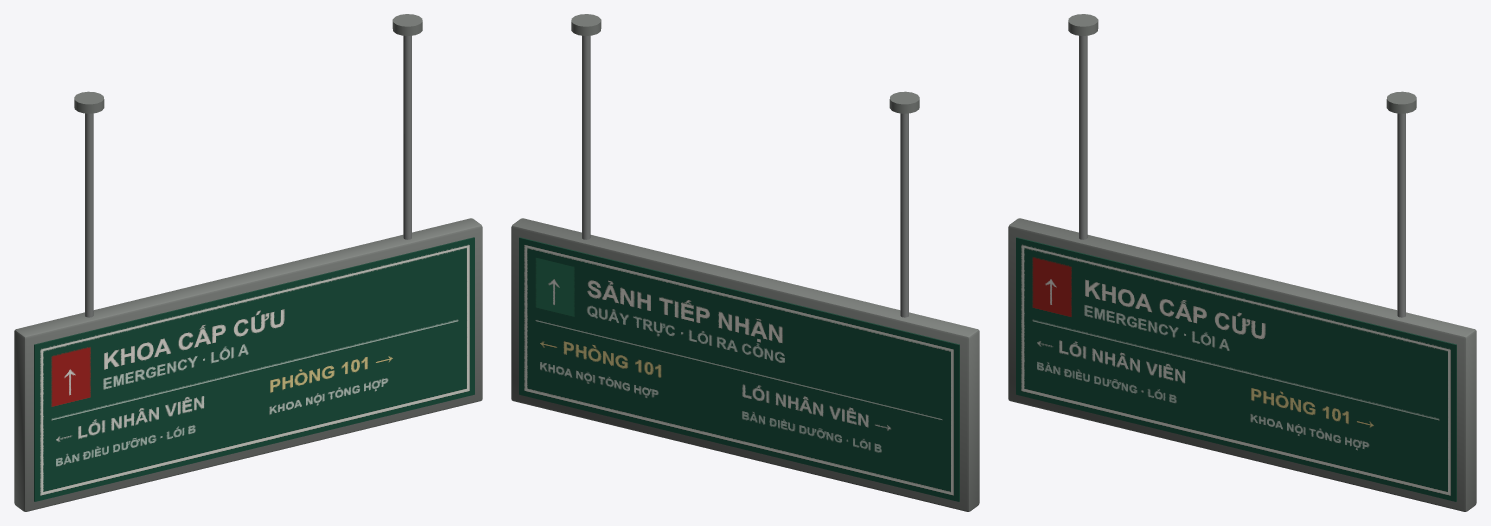
Rendered from CTCC_HALL_BladeSign.fbx.
3 renders of one model, left to right at view 1: azimuth 30°, elevation 25°; view 2: azimuth 150°, elevation 25°; view 3: azimuth 330°, elevation 25°, orthographic.
Parts seen in each view (by area): view 1: CTCC_HALL_BladeSign; view 2: CTCC_HALL_BladeSign; view 3: CTCC_HALL_BladeSign.
Boxes of the visible parts, x1,y1,x2,y2 form: CTCC_HALL_BladeSign: (14, 14, 482, 511); CTCC_HALL_BladeSign: (511, 14, 979, 511); CTCC_HALL_BladeSign: (1008, 14, 1476, 511).
Size of the model in its own units: 0.98 by 0.804 by 0.056.
